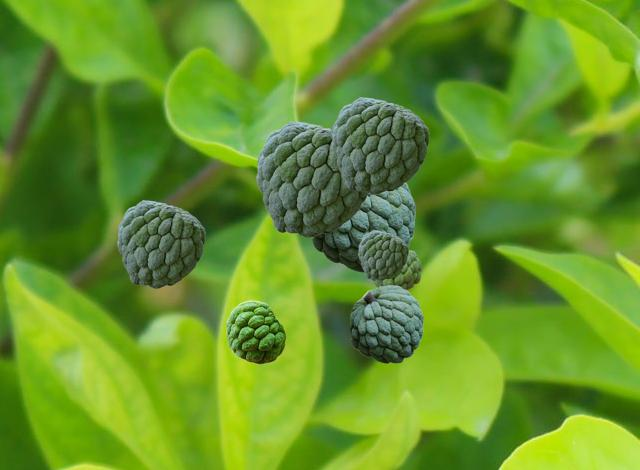atis: (256, 121, 368, 236), (331, 97, 428, 193), (311, 183, 414, 271), (117, 200, 204, 287), (350, 285, 422, 362), (226, 300, 285, 363), (358, 230, 407, 279), (371, 249, 420, 289)
